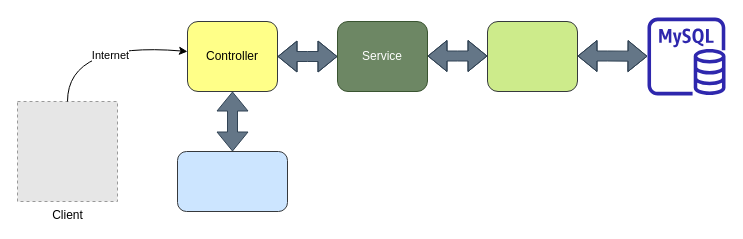
Some shapes in this 743 by 239 pixel diagram are drawn without their labels. Grey dashed boxes stand in for pictures. The shapes that lost their labels are listed below. From the top down, each one's centre as x and y in pixels, then its label:
At point (532, 56): "DAO".
At point (232, 181): "MVC(ThymeLeaf)".
